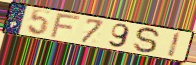5: (27, 8, 53, 37)
7: (80, 18, 106, 44)
9: (107, 23, 131, 49)
F: (48, 13, 83, 39)
I: (166, 31, 183, 60)
S: (132, 27, 162, 55)
